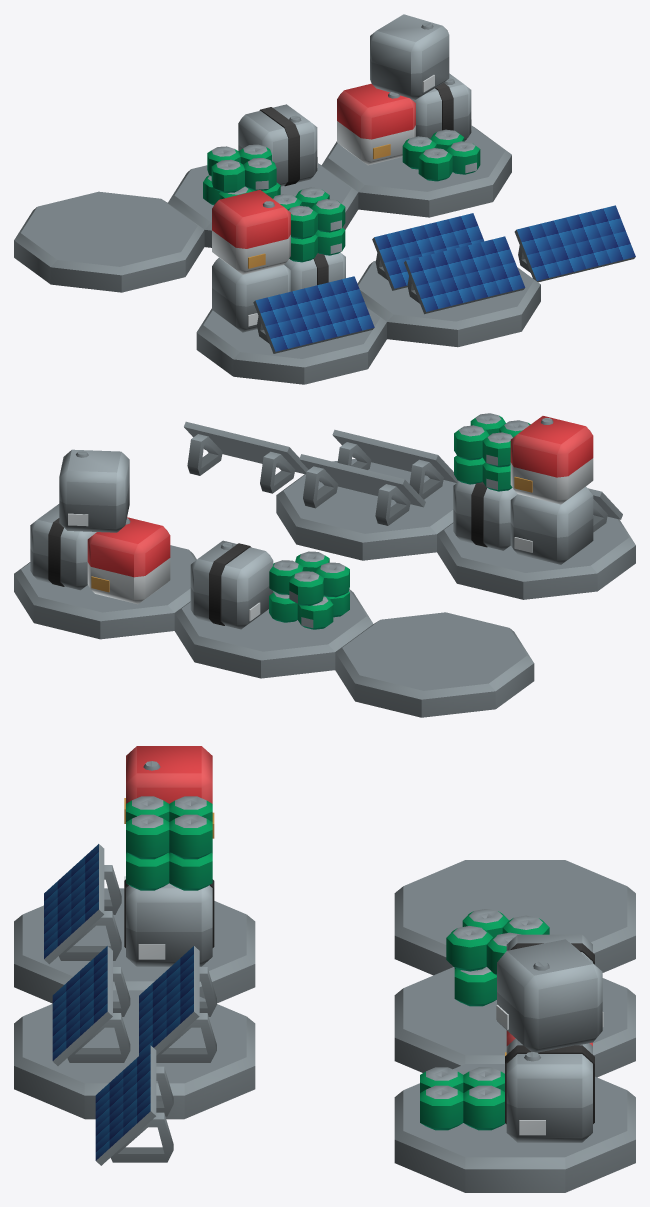
The model's file is Cargo Roof Modules.glb.
The picture shows the model from 3 angles, top to bottom: view 1: azimuth 30°, elevation 25°; view 2: azimuth 150°, elevation 25°; view 3: azimuth 270°, elevation 25°; orthographic projection. The views are drawn at different scales.
Parts seen in each view (by area): view 1: roofmodule_cargo_C, roofmodule_cargo_B, roofmodule_solarpanels, roofmodule_base, roofmodule_cargo_A, solarpanel; view 2: roofmodule_cargo_C, roofmodule_cargo_B, roofmodule_cargo_A, roofmodule_solarpanels, roofmodule_base, solarpanel; view 3: roofmodule_cargo_B, roofmodule_cargo_C, roofmodule_solarpanels, roofmodule_cargo_A, roofmodule_base, solarpanel.
Part boxes in pixels (left/top/right/bottom): roofmodule_cargo_C: left=196, top=187, right=386, bottom=384; roofmodule_cargo_B: left=321, top=14, right=511, bottom=217; roofmodule_solarpanels: left=357, top=213, right=540, bottom=347; roofmodule_base: left=14, top=191, right=204, bottom=292; roofmodule_cargo_A: left=168, top=104, right=358, bottom=247; solarpanel: left=514, top=205, right=635, bottom=282; roofmodule_cargo_C: left=437, top=413, right=635, bottom=599; roofmodule_cargo_B: left=14, top=449, right=196, bottom=639; roofmodule_cargo_A: left=174, top=540, right=373, bottom=678; roofmodule_solarpanels: left=276, top=429, right=458, bottom=560; roofmodule_base: left=335, top=612, right=534, bottom=717; solarpanel: left=184, top=421, right=308, bottom=493; roofmodule_cargo_B: left=394, top=939, right=635, bottom=1192; roofmodule_cargo_C: left=14, top=746, right=255, bottom=1003; roofmodule_solarpanels: left=14, top=946, right=255, bottom=1119; roofmodule_cargo_A: left=394, top=909, right=635, bottom=1077; roofmodule_base: left=394, top=860, right=635, bottom=975; solarpanel: left=95, top=1045, right=173, bottom=1165.
Bounding box in the file's own units: 4.19 × 1.22 × 3.6.
1 material, 1 textured.
